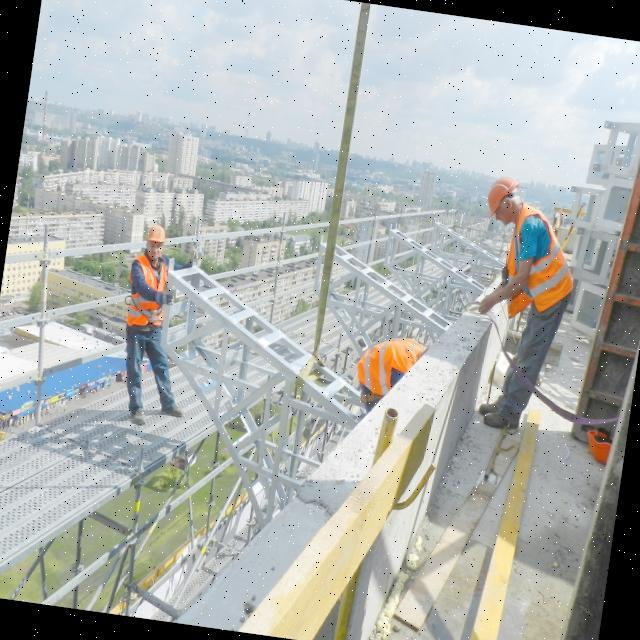Helmet: (485, 173, 520, 229), (144, 224, 169, 252)
Jacket: (498, 207, 578, 307), (126, 253, 174, 331), (360, 333, 421, 390)
